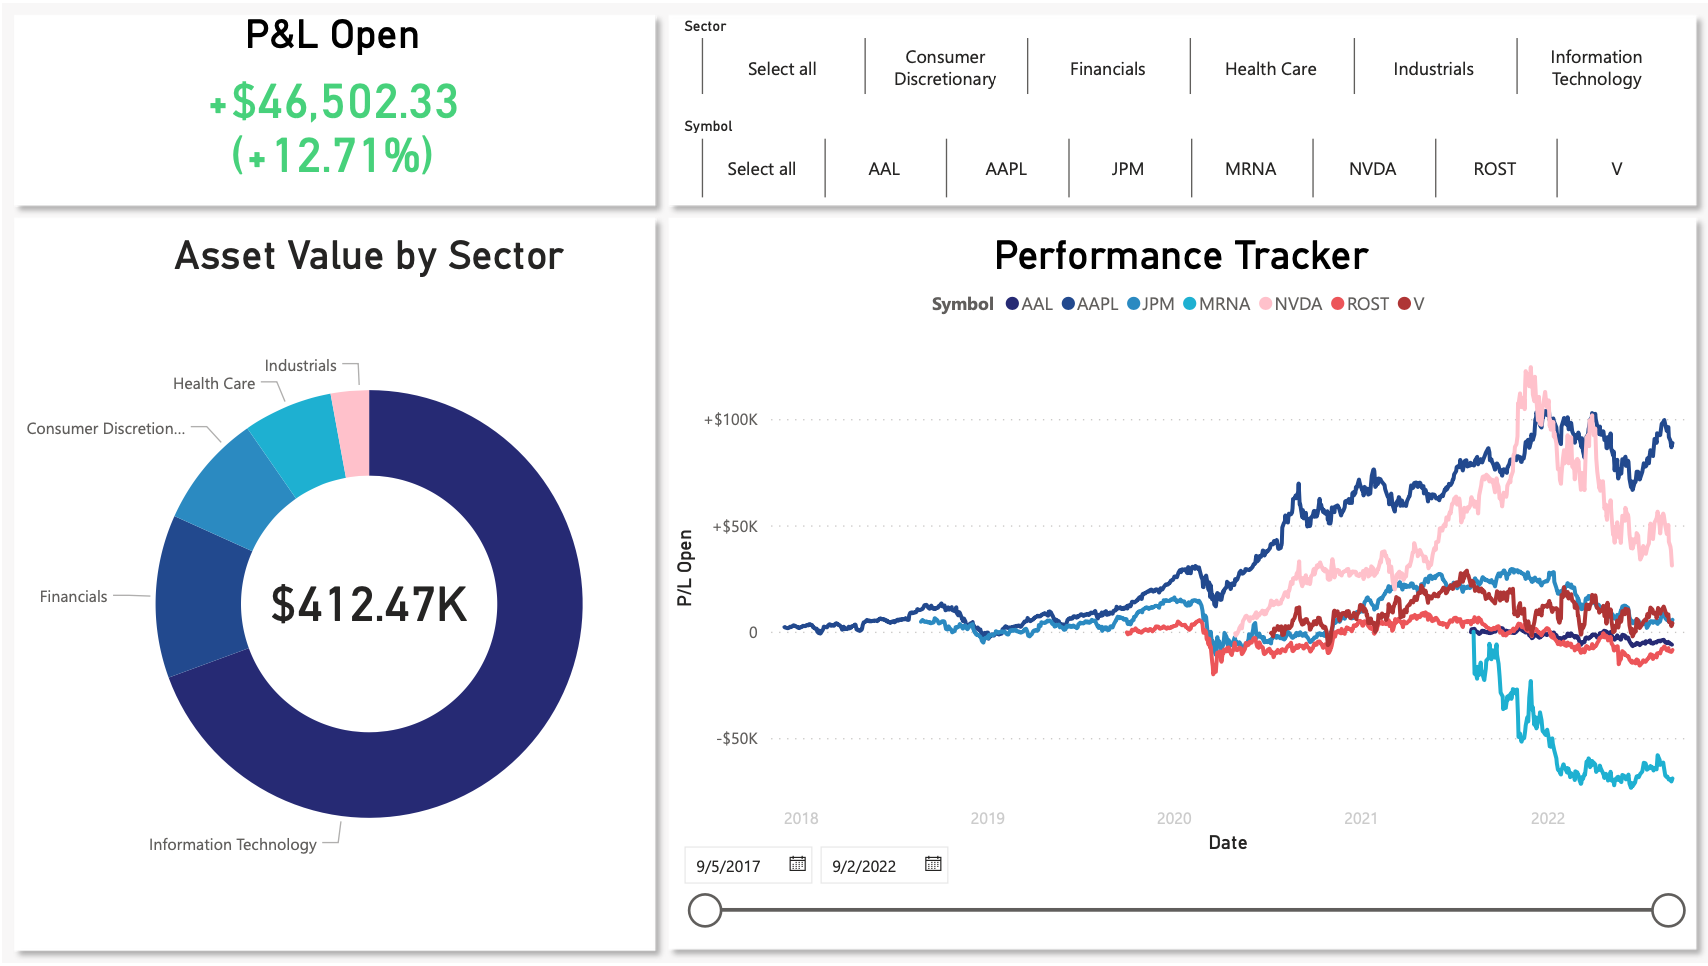

The dashboard page shown, as its layout file describes it:
{"tool":"powerbi","page":{"name":"Portfolio Tracker","canvas":[1280,720],"ordinal":0},"visuals":[{"type":"shape","box":[491.2,0,788.8,161.1],"z":0},{"type":"shape","box":[0,152.2,499,568.4],"z":1000},{"type":"shape","box":[491.2,152.2,788.8,567.3],"z":2000},{"type":"shape","box":[0,0,499,161.1],"z":3000},{"type":"slicer","fields":{"Values":["Real Time Data.Symbol"]},"box":[499,80.6,781,71.6],"z":4000},{"type":"slicer","fields":{"Values":["Real Time Data.Date"]},"box":[499,622.8,772.1,78.6],"z":5000},{"type":"slicer","fields":{"Values":["Real Time Data.Sector"]},"box":[499,5.6,781,70.5],"z":6000},{"type":"lineChart","title":"Performance Tracker","fields":{"Y":["Calculations.P/L Open"],"Category":["Real Time Data.Date"],"Series":["Real Time Data.Symbol"]},"box":[499,170.9,772.1,470.5],"z":7000},{"type":"card","title":"P&L Open","fields":{"Values":["Calculations.P/L Open Card"]},"box":[78.3,5.6,340.1,135.4],"z":8000},{"type":"card","fields":{"Values":["Calculations.Total Value"]},"box":[125.7,297.7,299.6,298.6],"z":9000},{"type":"donutChart","fields":{"Y":["Calculations.Total Value"],"Category":["Real Time Data.Sector"]},"box":[8.8,170.9,533.4,524.6],"z":10000}]}

Visuals, with their boxes in screenshot pixels (x1, y1, x2, y2), scaled from the page's 1280x720 canvas onto the 1708x966 screenshot:
shape: {"left": 655, "top": 0, "right": 1707, "bottom": 216}
shape: {"left": 0, "top": 204, "right": 666, "bottom": 965}
shape: {"left": 655, "top": 204, "right": 1707, "bottom": 965}
shape: {"left": 0, "top": 0, "right": 666, "bottom": 216}
slicer - Real Time Data.Symbol: {"left": 666, "top": 108, "right": 1707, "bottom": 204}
slicer - Real Time Data.Date: {"left": 666, "top": 836, "right": 1696, "bottom": 941}
slicer - Real Time Data.Sector: {"left": 666, "top": 8, "right": 1707, "bottom": 102}
"Performance Tracker" lineChart: {"left": 666, "top": 229, "right": 1696, "bottom": 861}
"P&L Open" card: {"left": 104, "top": 8, "right": 558, "bottom": 189}
card - Calculations.Total Value: {"left": 168, "top": 399, "right": 568, "bottom": 800}
donutChart - Calculations.Total Value x Real Time Data.Sector: {"left": 12, "top": 229, "right": 723, "bottom": 933}
